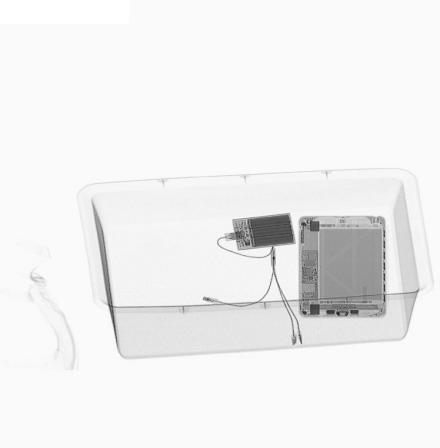Powerbank: (230, 212, 297, 252)
